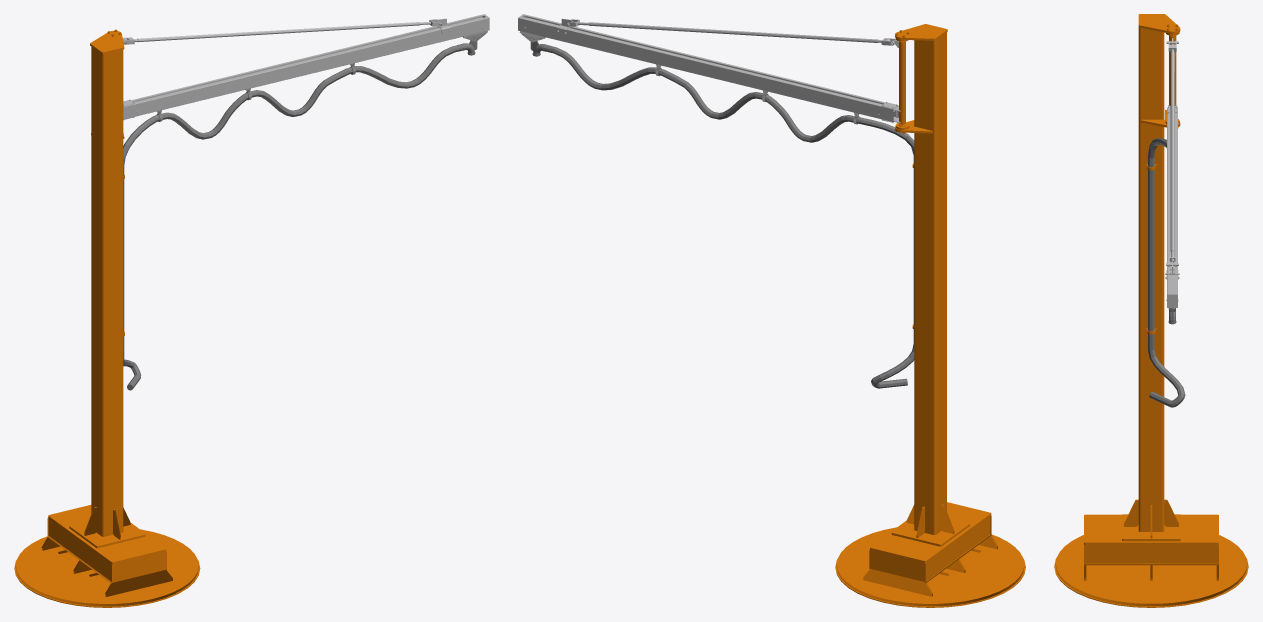
Rendered from aardwolf_all_part_Mobile Over Braced Jib Crane-One Arm@p1_-113_-111_0@p2_3067_-111_3378.fbx.
3 renders of one model, left to right at view 1: azimuth 30°, elevation 25°; view 2: azimuth 150°, elevation 25°; view 3: azimuth 270°, elevation 25°, orthographic. The views are drawn at different scales.
Parts seen in each view (by area): view 1: aardwolf_all_part_obj181, aardwolf_all_part_obj164, aardwolf_all_part_obj183, Shape114, aardwolf_all_part_obj182, Shape115; view 2: aardwolf_all_part_obj181, aardwolf_all_part_obj164, aardwolf_all_part_obj183, Shape114, aardwolf_all_part_obj182, Shape115; view 3: aardwolf_all_part_obj164, aardwolf_all_part_obj181, Shape115, aardwolf_all_part_obj183, aardwolf_all_part_obj182.
Part boxes in pixels (x1=…): aardwolf_all_part_obj181: x1=90, y1=29, x2=124, y2=536; aardwolf_all_part_obj164: x1=14, y1=505, x2=200, y2=607; aardwolf_all_part_obj183: x1=123, y1=14, x2=489, y2=120; Shape114: x1=161, y1=45, x2=458, y2=139; aardwolf_all_part_obj182: x1=122, y1=18, x2=451, y2=44; Shape115: x1=123, y1=114, x2=159, y2=390; aardwolf_all_part_obj181: x1=895, y1=24, x2=947, y2=534; aardwolf_all_part_obj164: x1=835, y1=502, x2=1025, y2=607; aardwolf_all_part_obj183: x1=518, y1=14, x2=900, y2=123; Shape114: x1=549, y1=46, x2=854, y2=142; aardwolf_all_part_obj182: x1=557, y1=18, x2=898, y2=47; Shape115: x1=856, y1=117, x2=914, y2=388; aardwolf_all_part_obj164: x1=1054, y1=499, x2=1248, y2=607; aardwolf_all_part_obj181: x1=1138, y1=14, x2=1180, y2=531; Shape115: x1=1148, y1=138, x2=1185, y2=407; aardwolf_all_part_obj183: x1=1166, y1=105, x2=1178, y2=307; aardwolf_all_part_obj182: x1=1165, y1=38, x2=1179, y2=279.
Bounding box in the file's own units: 3856 × 4113 × 1320.
